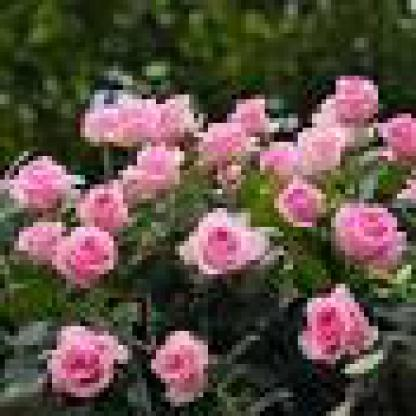Rose-Mawar: (11, 63, 413, 398)
